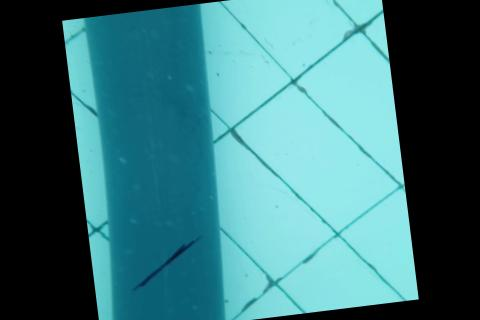keretakan: (124, 233, 207, 292)
